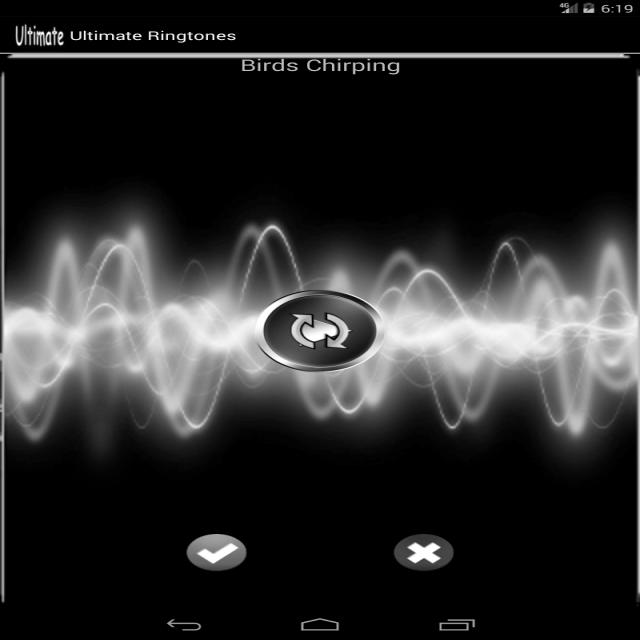ImageButton: (382, 530, 461, 576), (179, 532, 260, 575)
ImageView: (13, 220, 623, 440)
TextView: (238, 54, 406, 80), (67, 26, 242, 44)
